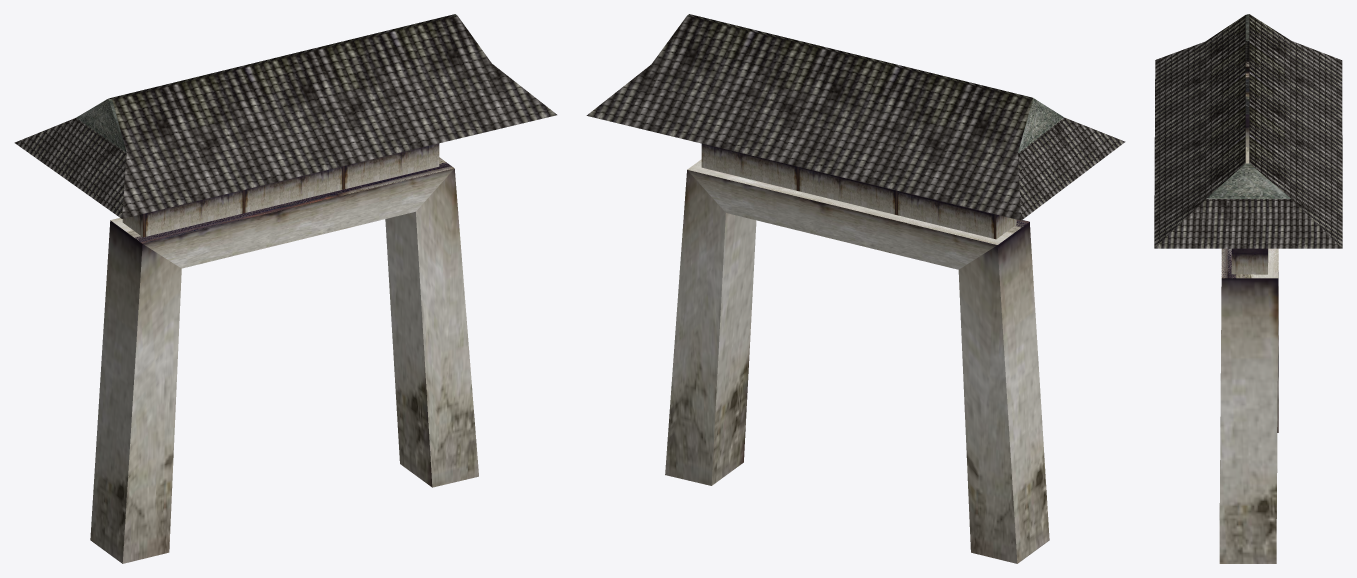
The model's file is ian1640.obj.
The picture shows the model from 3 angles, left to right: view 1: azimuth 30°, elevation 25°; view 2: azimuth 150°, elevation 25°; view 3: azimuth 270°, elevation 25°; orthographic projection. The views are drawn at different scales.
Visible parts, largest first — view 1: ian1640; view 2: ian1640; view 3: ian1640.
Boxes of the visible parts, <box> form: ian1640: <box>14,14,556,563</box>; ian1640: <box>586,14,1125,563</box>; ian1640: <box>1154,14,1342,563</box>.
Size of the model in its own units: 140 by 139 by 59.52.
